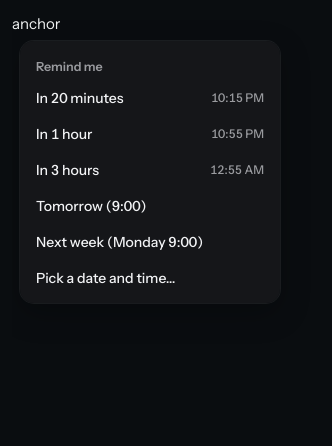
Test: RemindMeMenu › opens the date and time field with one cream button, and says why a time in the past is refused
This screenshot has width=332, height=446.
Click the menu item "Pick a date and time…" at (150, 279), box [26, 261, 274, 297]
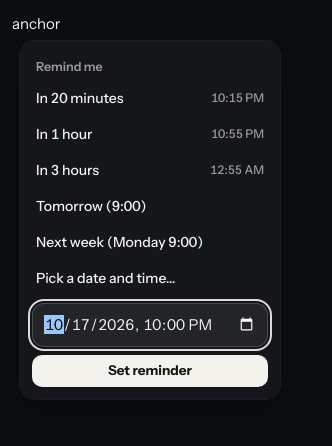
Replace the text in the field named "Date and time" with "2001-01-01T10:00" at (150, 325), box [32, 303, 268, 347]
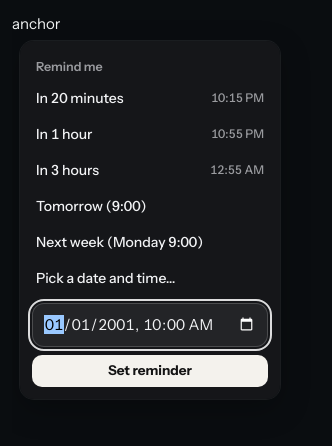
Note: The field's own `min` would stop a real submit before the words appear: submit the form itself.
Submit the form "Set reminder", box [26, 297, 274, 393]
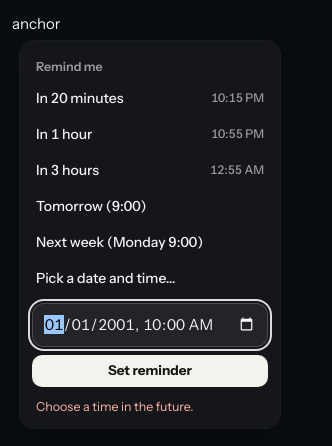
Now the message reads "Choose a time in the future.", box [36, 399, 194, 414]
